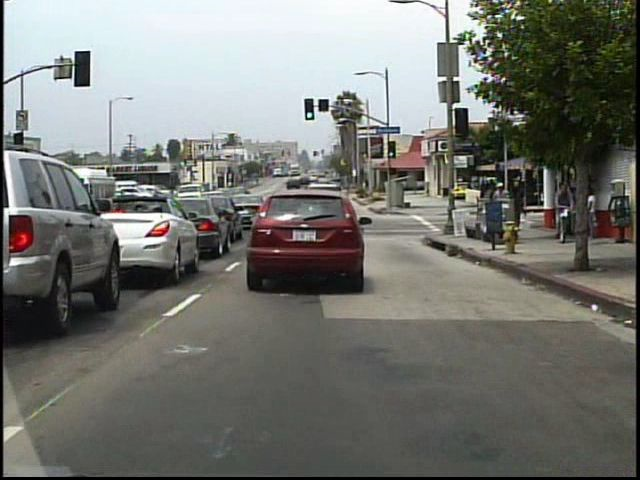person: (510, 177, 529, 238), (493, 180, 512, 230), (558, 182, 575, 233), (587, 187, 597, 240), (581, 183, 582, 240)
